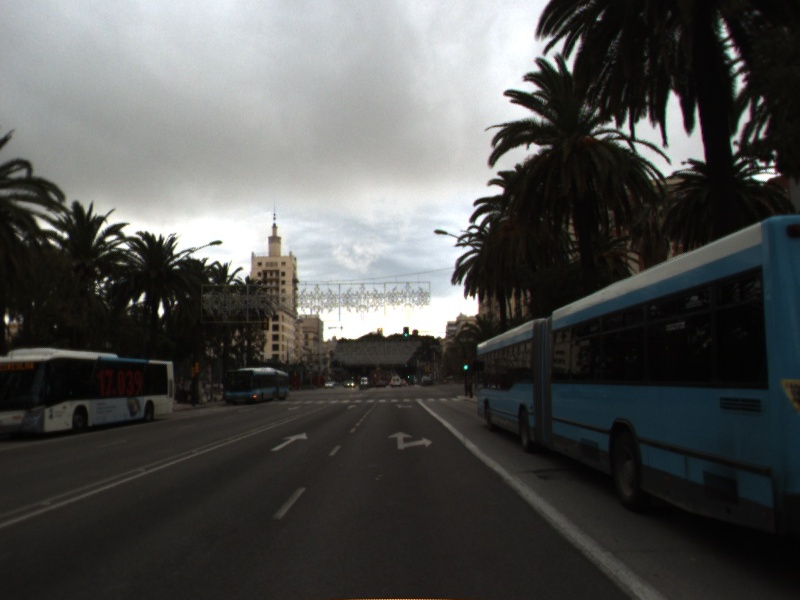STRAIGHT: (269, 430, 310, 453)
STRAIGHT_RIGHT: (386, 429, 434, 451)
